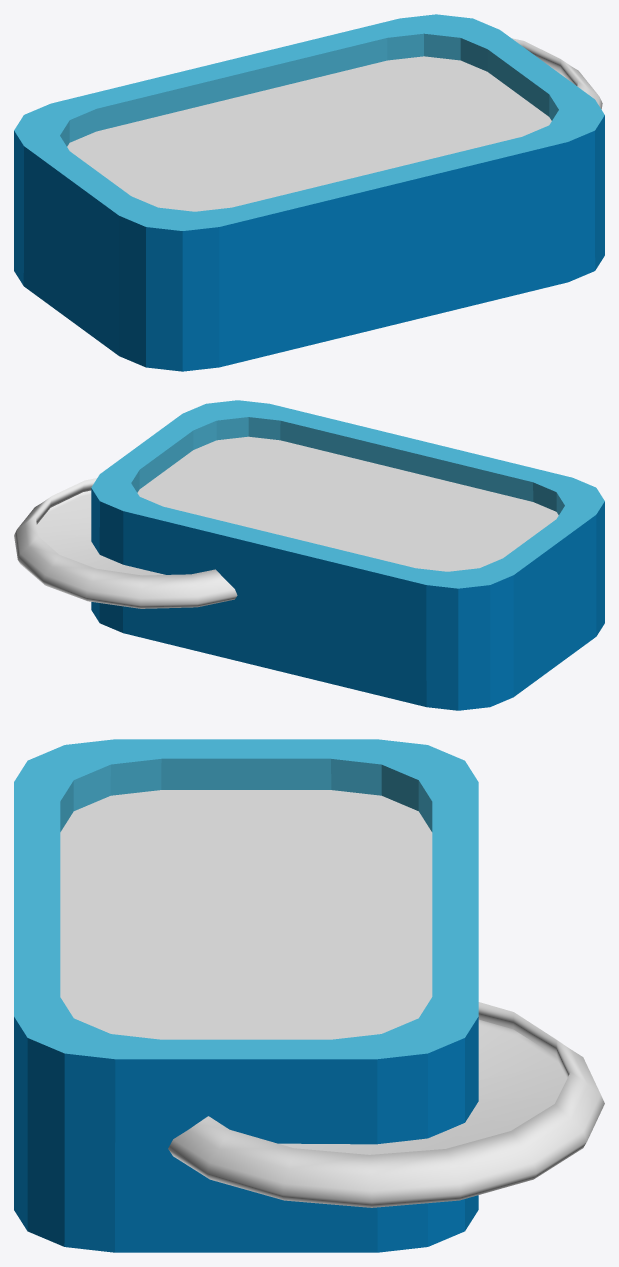
File: ring.fbx
3 renders of one model, top to bottom at view 1: azimuth 30°, elevation 25°; view 2: azimuth 150°, elevation 25°; view 3: azimuth 270°, elevation 25°, orthographic. The views are drawn at different scales.
Visible parts, largest first — view 1: Cube.001, Cube; view 2: Cube.001, Cube; view 3: Cube.001, Cube.
Boxes of the visible parts, x1=… form: Cube.001: x1=14, y1=14, x2=604, y2=371; Cube: x1=512, y1=38, x2=602, y2=109; Cube.001: x1=91, y1=400, x2=604, y2=710; Cube: x1=14, y1=478, x2=237, y2=608; Cube.001: x1=14, y1=739, x2=478, y2=1252; Cube: x1=168, y1=1002, x2=604, y2=1207.
Size of the model in its own units: 828 by 200 by 554.
